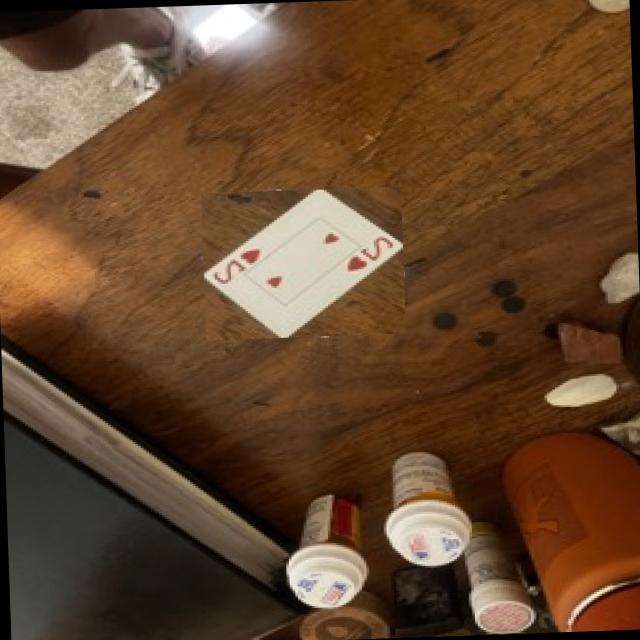2 of hearts: (203, 188, 402, 336)
